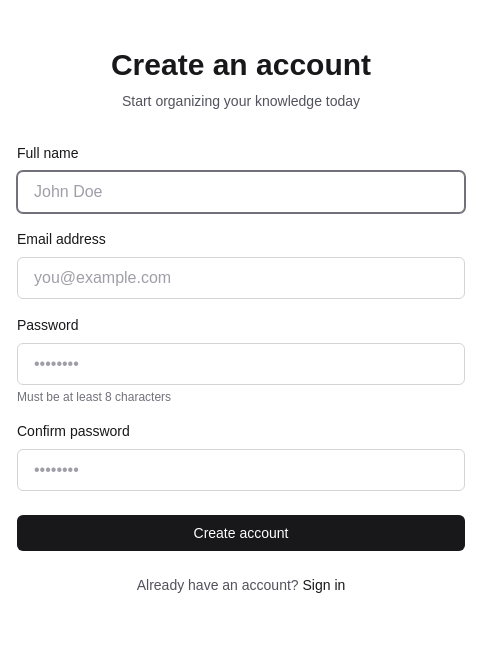
Test: Register Page › should show error when submitting empty form
Click the button "Create account" at (241, 533), box [17, 515, 465, 551]
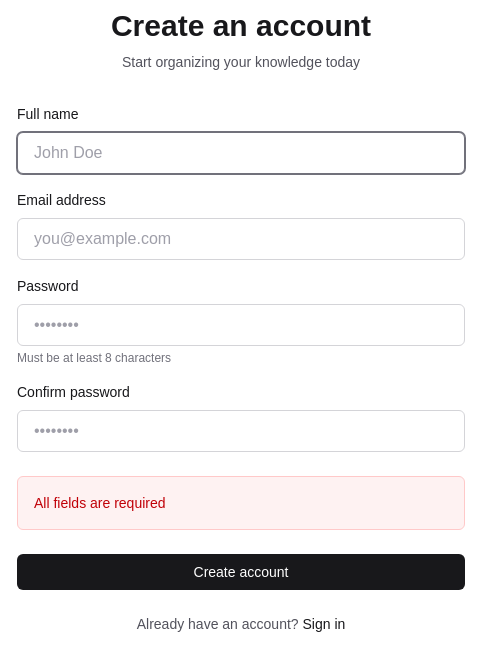
Expected: the text "All fields are required" is shown, [34, 495, 166, 511]
